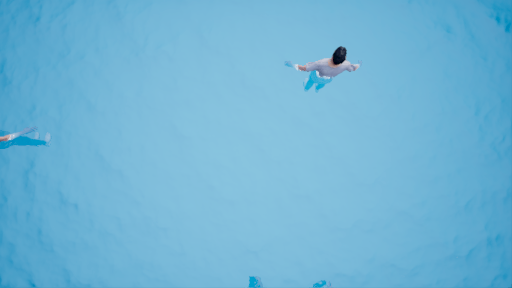person: (302, 24, 362, 102), (1, 120, 78, 146)
